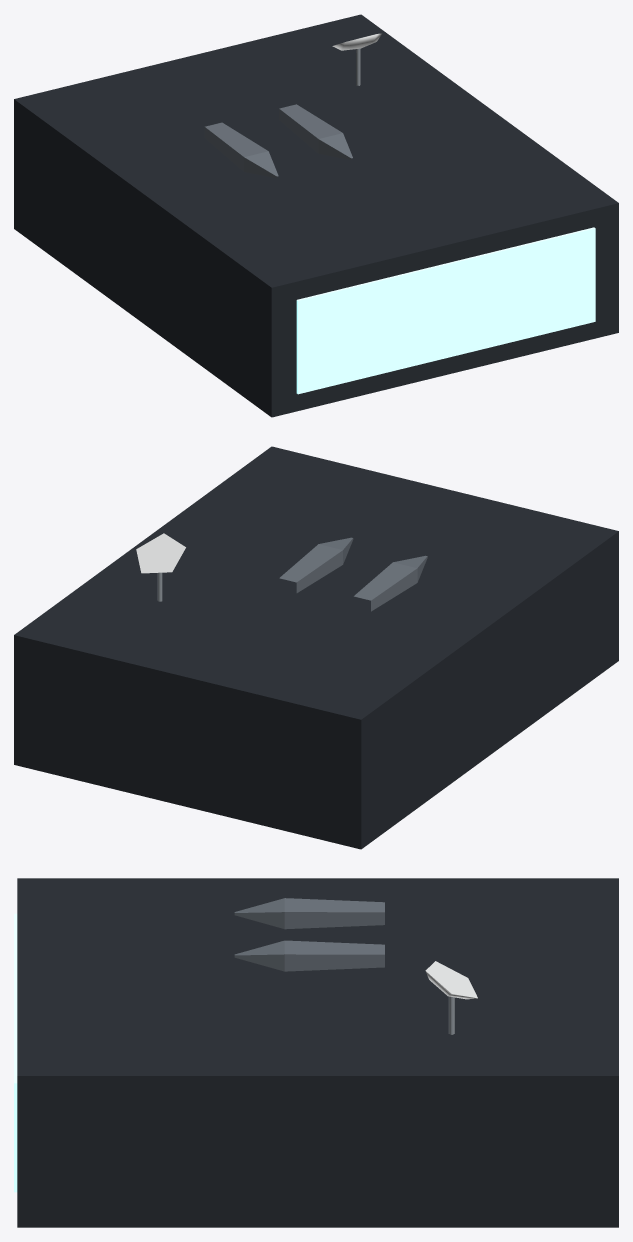
File: space_orbital_hangar_t2_lod2.glb
The picture shows the model from 3 angles, top to bottom: view 1: azimuth 30°, elevation 25°; view 2: azimuth 150°, elevation 25°; view 3: azimuth 270°, elevation 25°; orthographic projection. The views are drawn at different scales.
Visible parts, largest first — view 1: body, door, antenna_0; view 2: body, antenna_0; view 3: body, antenna_0, door.
Boxes of the visible parts, left/top/right/bottom form: body: left=14, top=14, right=618, bottom=417; door: left=296, top=227, right=595, bottom=394; antenna_0: left=332, top=33, right=381, bottom=85; body: left=14, top=446, right=618, bottom=849; antenna_0: left=136, top=533, right=185, bottom=601; body: left=17, top=878, right=618, bottom=1227; antenna_0: left=425, top=961, right=477, bottom=1034; door: left=14, top=913, right=17, bottom=1192.
Size of the model in its own units: 14 by 7.22 by 18.1.
